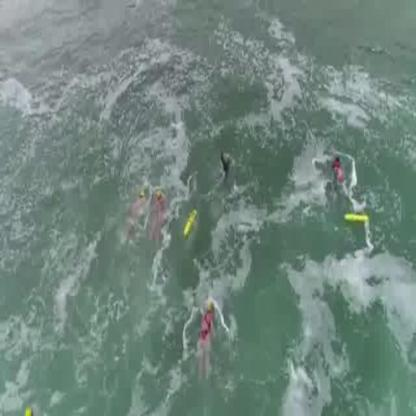Boat: (342, 208, 368, 224), (184, 208, 197, 237)
